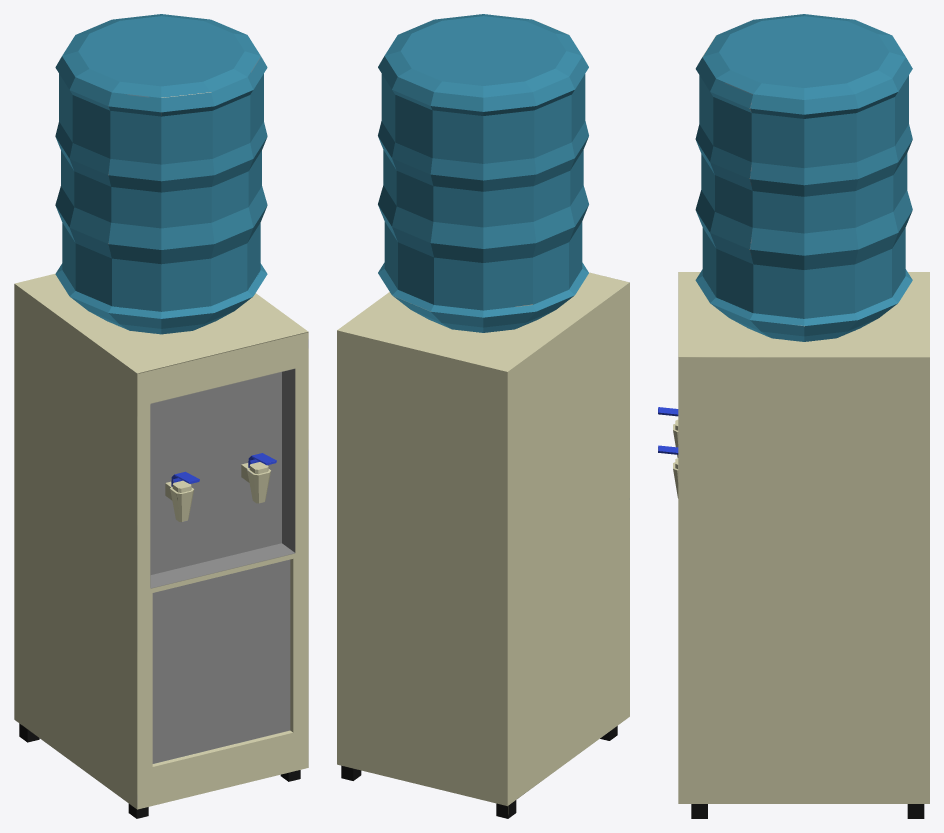
Rendered from water_dispensor.fbx.
The picture shows the model from 3 angles, left to right: view 1: azimuth 30°, elevation 25°; view 2: azimuth 150°, elevation 25°; view 3: azimuth 270°, elevation 25°; orthographic projection. The views are drawn at different scales.
Visible parts, largest first — view 1: water_despenser_baked; view 2: water_despenser_baked; view 3: water_despenser_baked.
Part boxes in pixels (left/top/right/bottom): water_despenser_baked: left=14, top=14, right=308, bottom=818; water_despenser_baked: left=337, top=14, right=629, bottom=818; water_despenser_baked: left=658, top=14, right=929, bottom=818.
Bounding box in the file's own units: 63.48 × 234 × 79.41.
1 material, 1 textured.
